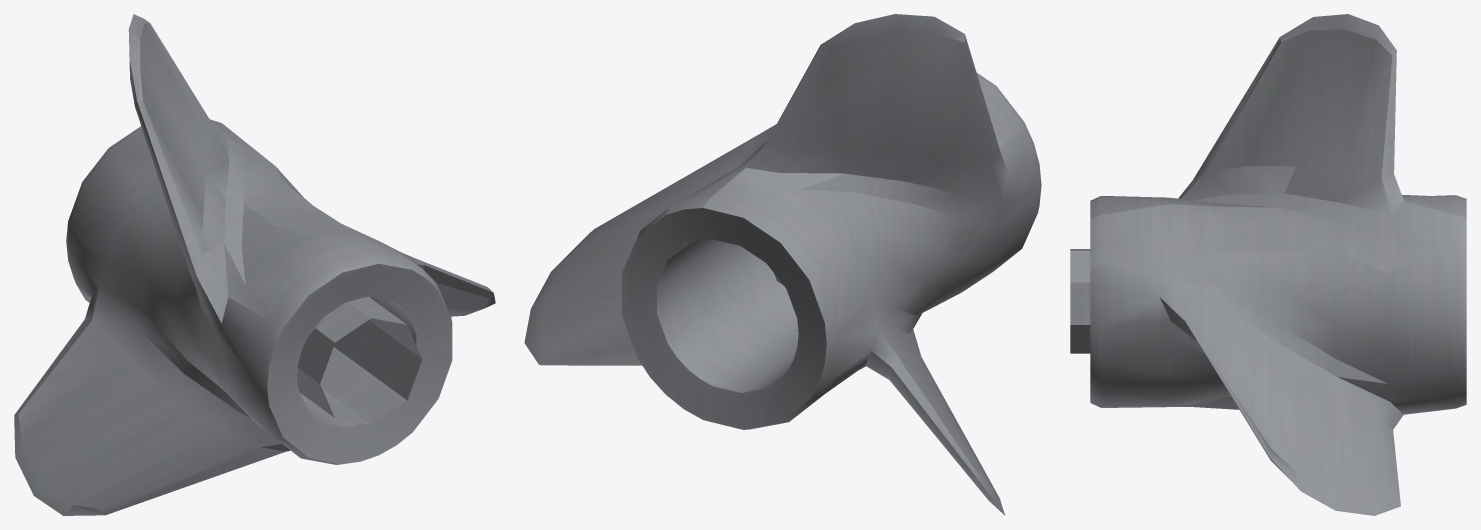
Rendered from propeller2.glb.
3 views of the same model, side by side, from view 1: azimuth 30°, elevation 25°; view 2: azimuth 150°, elevation 25°; view 3: azimuth 270°, elevation 25° (orthographic). The views are drawn at different scales.
Visible parts, largest first — view 1: Cylinder.040; view 2: Cylinder.040; view 3: Cylinder.040.
Boxes of the visible parts, <box> form: Cylinder.040: <box>14,14,495,515</box>; Cylinder.040: <box>524,14,1041,515</box>; Cylinder.040: <box>1070,14,1466,515</box>.
Bounding box in the file's own units: 17.43 × 17.04 × 14.29.
Materials: 1 (1 with a texture image).
